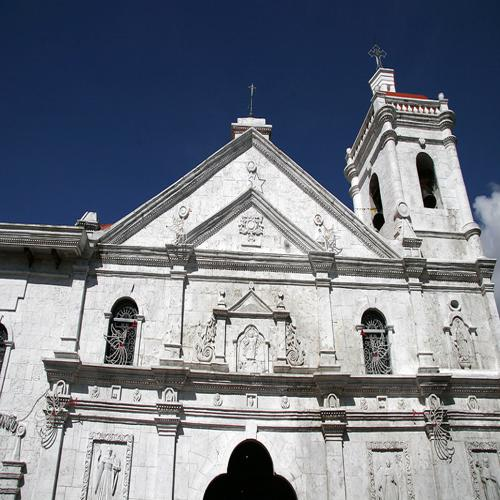Sto. Nino Basilica Church: (92, 41, 500, 500)
